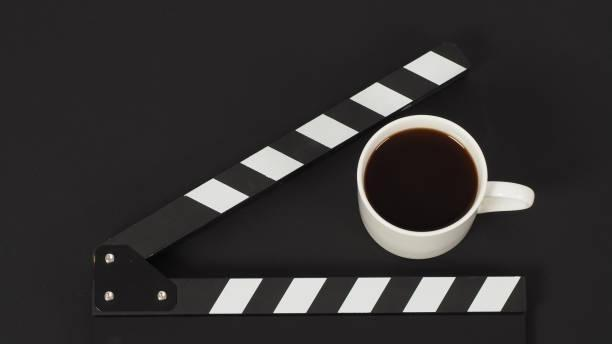cup-handle: (355, 113, 535, 261)
